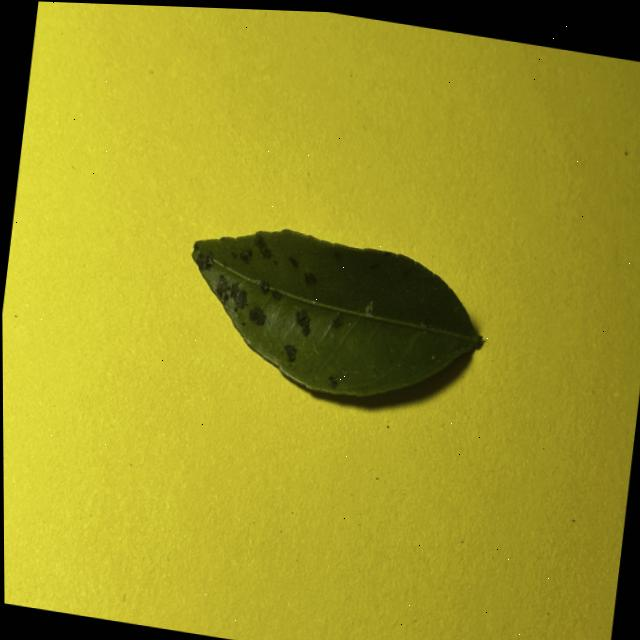sooty_mold: (191, 229, 479, 394)
